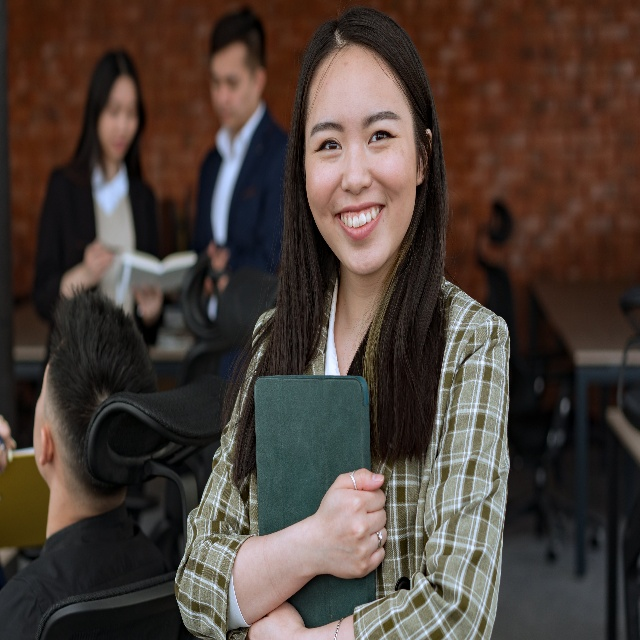Sin_guantes: (314, 464, 388, 579), (245, 599, 305, 640), (84, 239, 114, 281)
